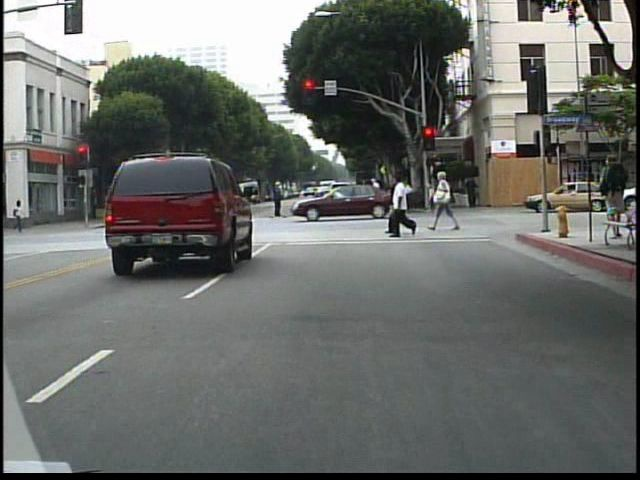person: (388, 174, 424, 245), (432, 171, 464, 234), (596, 148, 629, 208), (388, 175, 405, 236), (367, 174, 389, 218), (465, 167, 485, 214), (145, 188, 161, 232), (399, 176, 417, 214), (271, 177, 286, 221), (124, 191, 140, 232), (12, 199, 28, 234), (353, 178, 370, 209), (2, 200, 16, 235)
